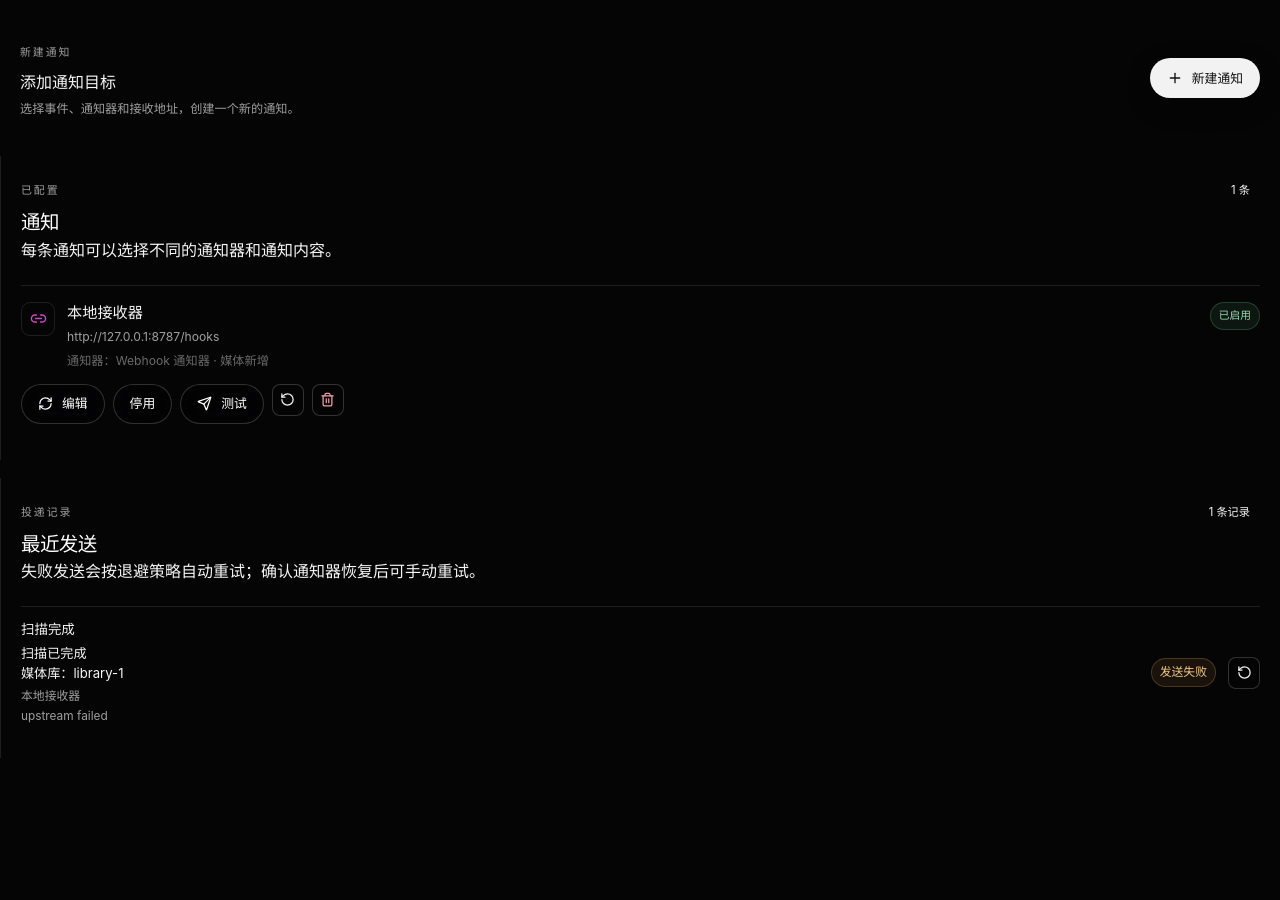
it: AdminNotificationsPage › shows destinations, notification content, delivery failures, and retry action
What coordinates should you click on to do the following:
click the button with aria-label "新建通知"
I would click on:
 (1205, 78)
Its box is [1150, 58, 1260, 98].
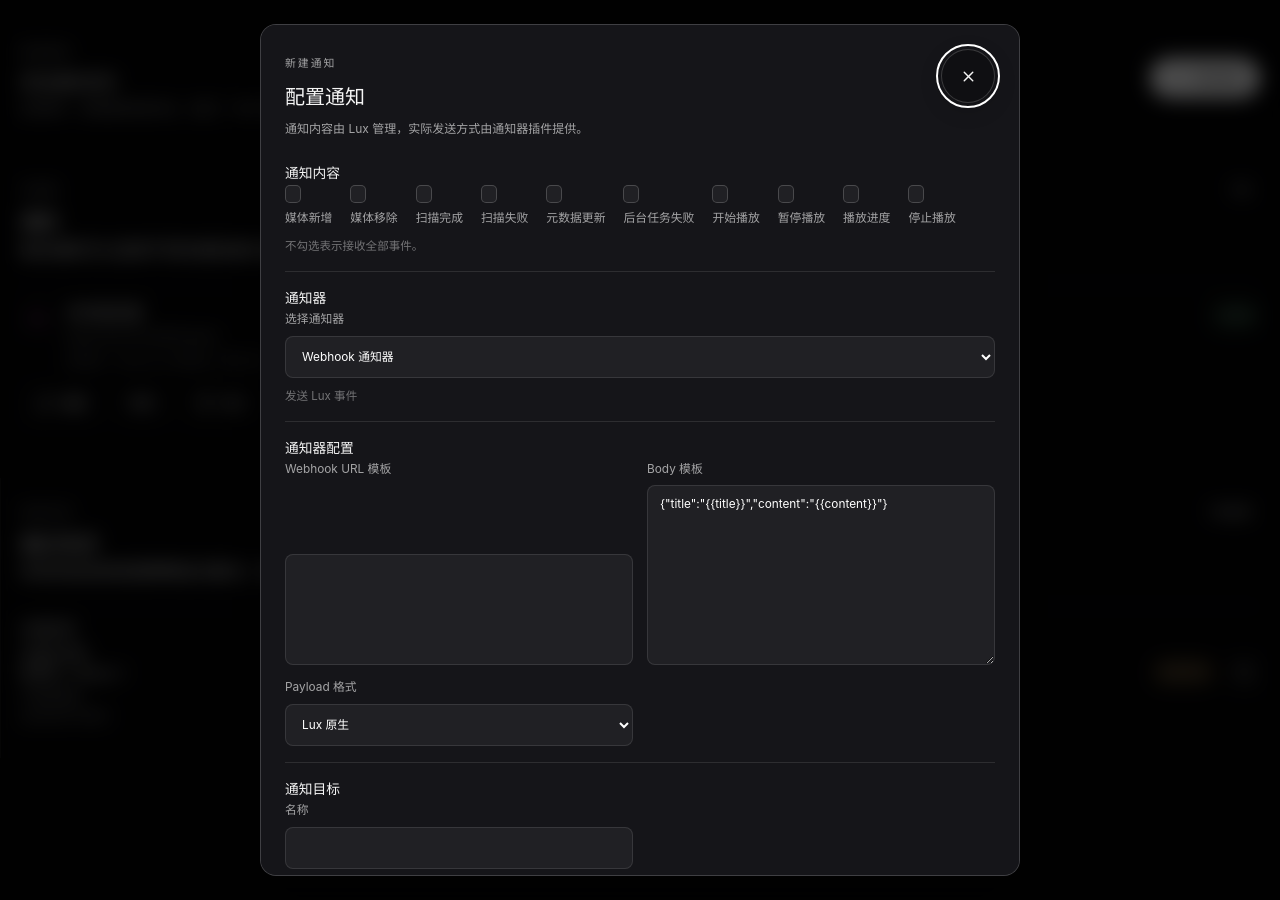
Check: the checkbox named "event-MEDIA_ADDED" is shown, box [285, 185, 301, 203]
Check: the dropdown named "notification-provider" is shown, box [285, 336, 995, 378]
Check: the field named "notification-config-url" is shown, box [285, 554, 633, 665]
